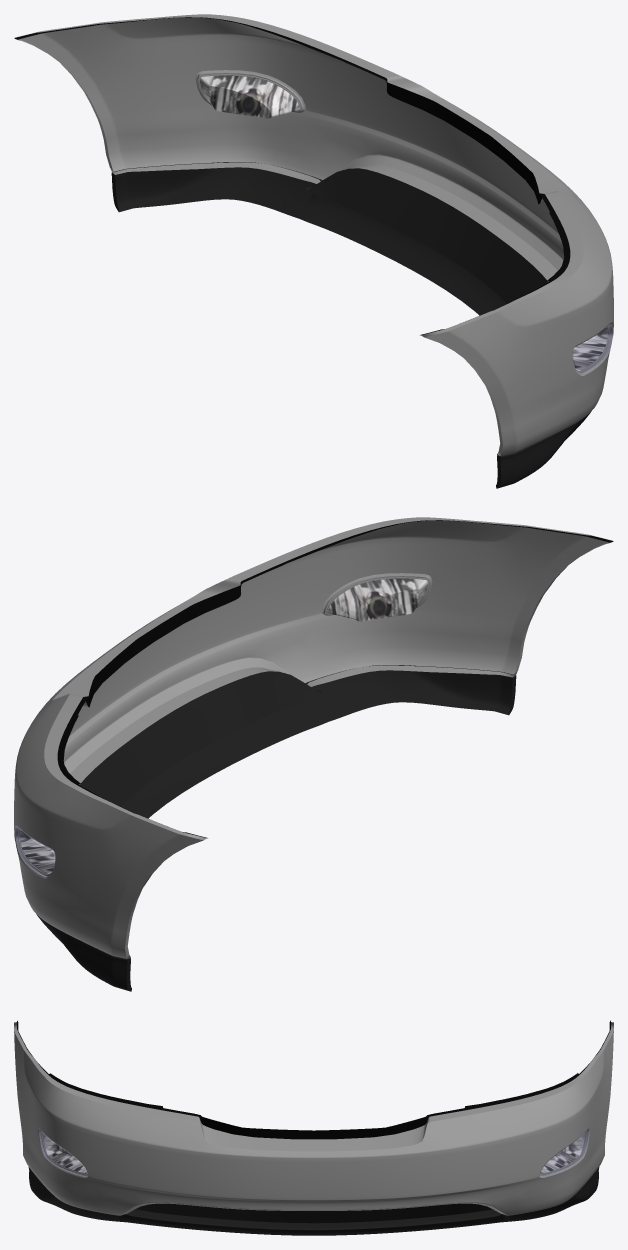
3 renders of one model, top to bottom at view 1: azimuth 30°, elevation 25°; view 2: azimuth 150°, elevation 25°; view 3: azimuth 270°, elevation 25°, orthographic. The views are drawn at different scales.
Parts seen in each view (by area): view 1: LX61_021G_C_LX61_021G_C_3_DaS, LX61_021G_C_LX61_021G_C_4_D, LX61_021G_C_LX61_021G_C_3_DaS_E, LX61_021G_C_LX61_021G_C_5_D, LX61_021G_C_LX61_021G_C_9_D, LX61_021G_C_LX61_021G_C_2_N, LX61_021G_C_7_DTaSI_LX61_021G_C, LX61_021G_C_LX61_021G_C_1_N; view 2: LX61_021G_C_LX61_021G_C_3_DaS, LX61_021G_C_LX61_021G_C_4_D, LX61_021G_C_LX61_021G_C_3_DaS_E, LX61_021G_C_LX61_021G_C_5_D, LX61_021G_C_LX61_021G_C_9_D, LX61_021G_C_LX61_021G_C_1_N, LX61_021G_C_LX61_021G_C_8_DTaSI, LX61_021G_C_LX61_021G_C_2_N; view 3: LX61_021G_C_LX61_021G_C_3_DaS, LX61_021G_C_LX61_021G_C_4_D, LX61_021G_C_LX61_021G_C_3_DaS_E, LX61_021G_C_LX61_021G_C_5_D, LX61_021G_C_LX61_021G_C_9_D, LX61_021G_C_7_DTaSI_LX61_021G_C, LX61_021G_C_LX61_021G_C_8_DTaSI, LX61_021G_C_LX61_021G_C_2_N, LX61_021G_C_LX61_021G_C_1_N.
Part boxes in pixels (<box>): LX61_021G_C_LX61_021G_C_3_DaS: <box>20,17,613,455</box>; LX61_021G_C_LX61_021G_C_4_D: <box>111,162,591,488</box>; LX61_021G_C_LX61_021G_C_3_DaS_E: <box>15,14,613,455</box>; LX61_021G_C_LX61_021G_C_5_D: <box>308,168,547,303</box>; LX61_021G_C_LX61_021G_C_9_D: <box>14,17,570,335</box>; LX61_021G_C_LX61_021G_C_2_N: <box>200,75,300,118</box>; LX61_021G_C_7_DTaSI_LX61_021G_C: <box>573,325,612,372</box>; LX61_021G_C_LX61_021G_C_1_N: <box>572,326,607,370</box>; LX61_021G_C_LX61_021G_C_3_DaS: <box>14,520,607,958</box>; LX61_021G_C_LX61_021G_C_4_D: <box>36,665,516,991</box>; LX61_021G_C_LX61_021G_C_3_DaS_E: <box>14,517,612,958</box>; LX61_021G_C_LX61_021G_C_5_D: <box>80,671,319,806</box>; LX61_021G_C_LX61_021G_C_9_D: <box>57,520,613,838</box>; LX61_021G_C_LX61_021G_C_1_N: <box>327,578,427,621</box>; LX61_021G_C_LX61_021G_C_8_DTaSI: <box>15,828,54,875</box>; LX61_021G_C_LX61_021G_C_2_N: <box>20,829,55,873</box>; LX61_021G_C_LX61_021G_C_3_DaS: <box>14,1031,613,1215</box>; LX61_021G_C_LX61_021G_C_4_D: <box>28,1167,599,1235</box>; LX61_021G_C_LX61_021G_C_3_DaS_E: <box>14,1022,613,1177</box>; LX61_021G_C_LX61_021G_C_5_D: <box>135,1203,492,1223</box>; LX61_021G_C_LX61_021G_C_9_D: <box>17,1020,610,1139</box>; LX61_021G_C_7_DTaSI_LX61_021G_C: <box>39,1131,87,1175</box>; LX61_021G_C_LX61_021G_C_8_DTaSI: <box>540,1131,588,1175</box>; LX61_021G_C_LX61_021G_C_2_N: <box>540,1133,584,1173</box>; LX61_021G_C_LX61_021G_C_1_N: <box>43,1133,87,1173</box>.
Bounding box in the file's own units: 91.73 × 53.38 × 211.
